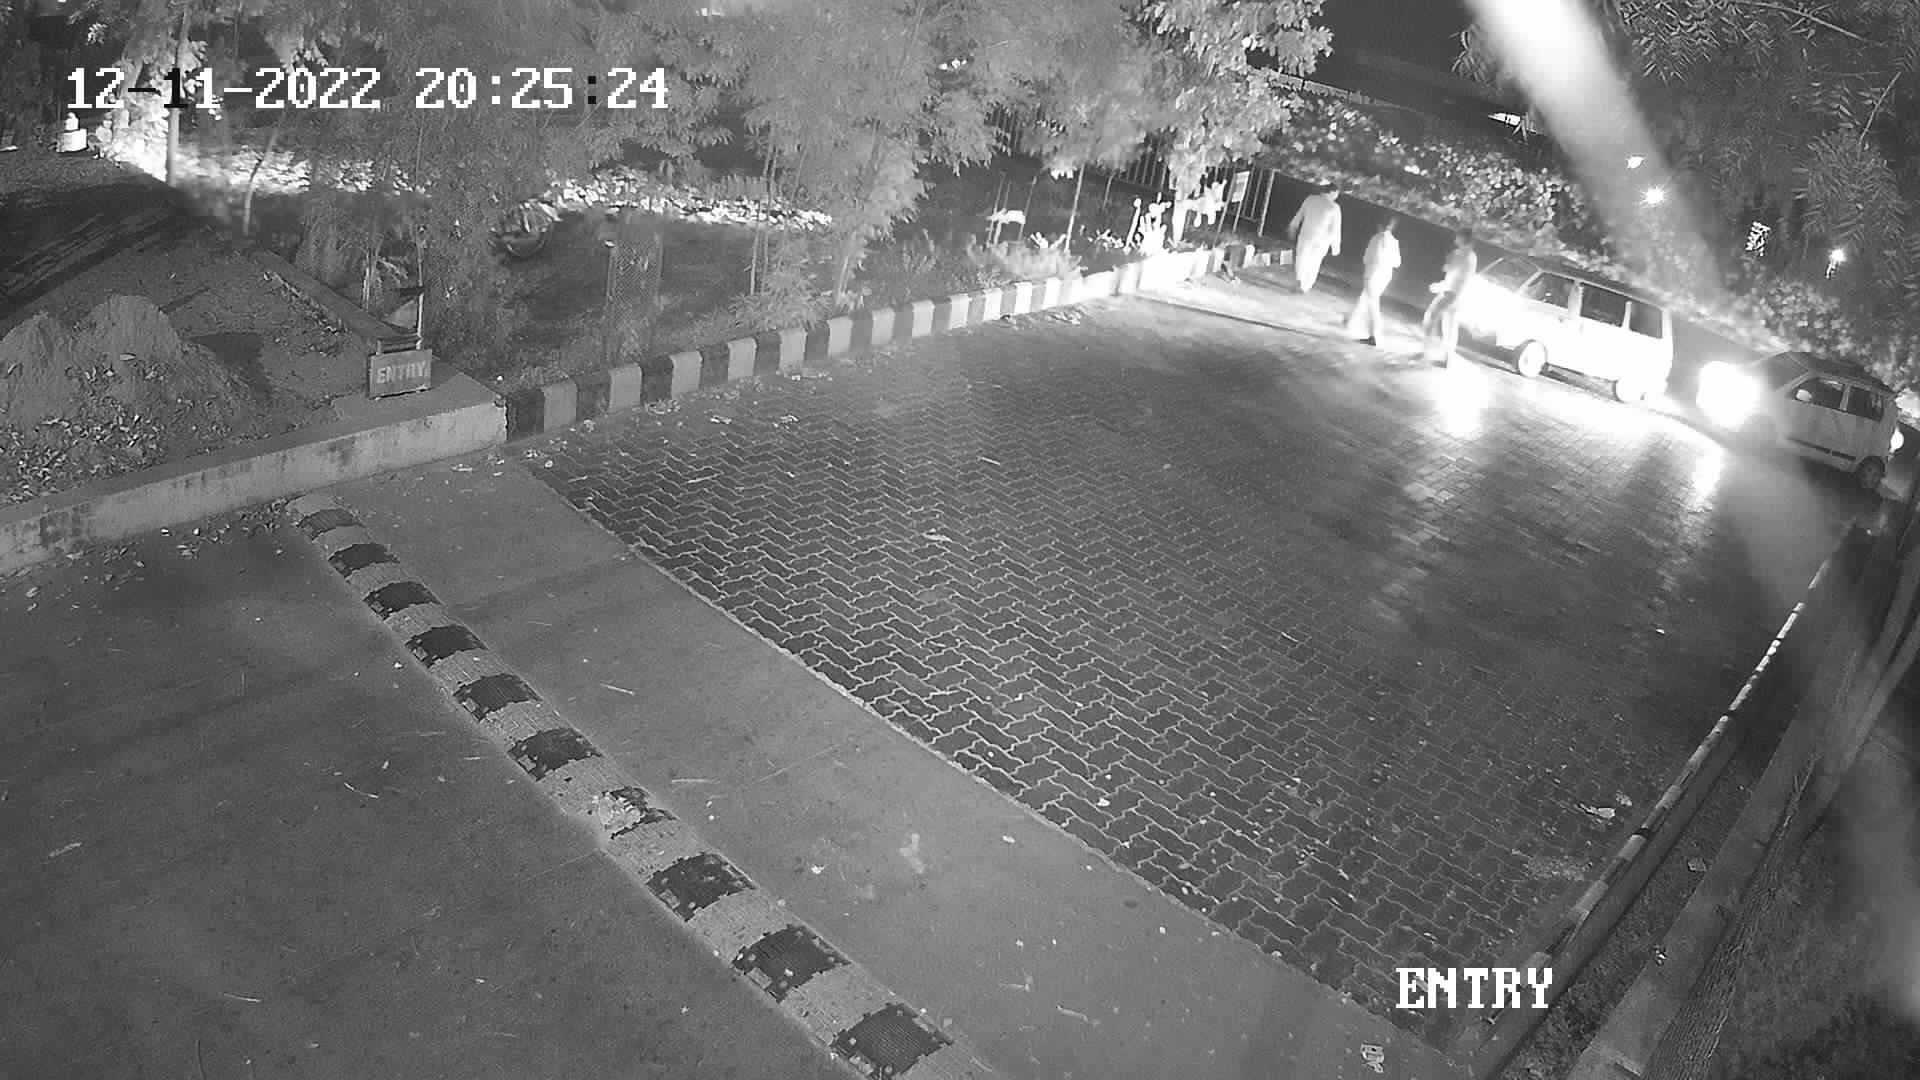Car: (1448, 240, 1684, 413), (1687, 328, 1908, 497)
